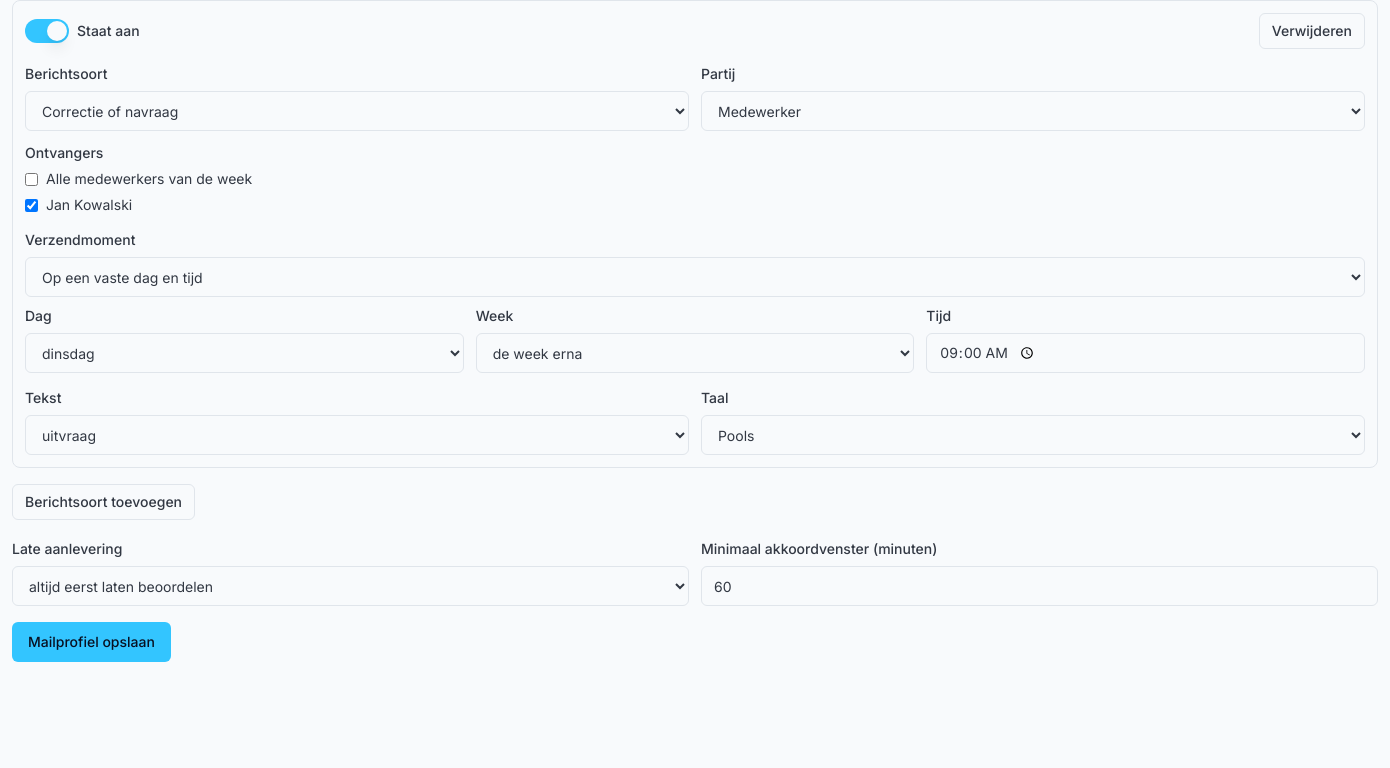
Test: the mail profile on screen › does that too when the message type is what moves the party
Select "Urenuitvraag" in the dropdown labelled "Berichtsoort" at (357, 111), box left=25, top=91, right=689, bottom=131
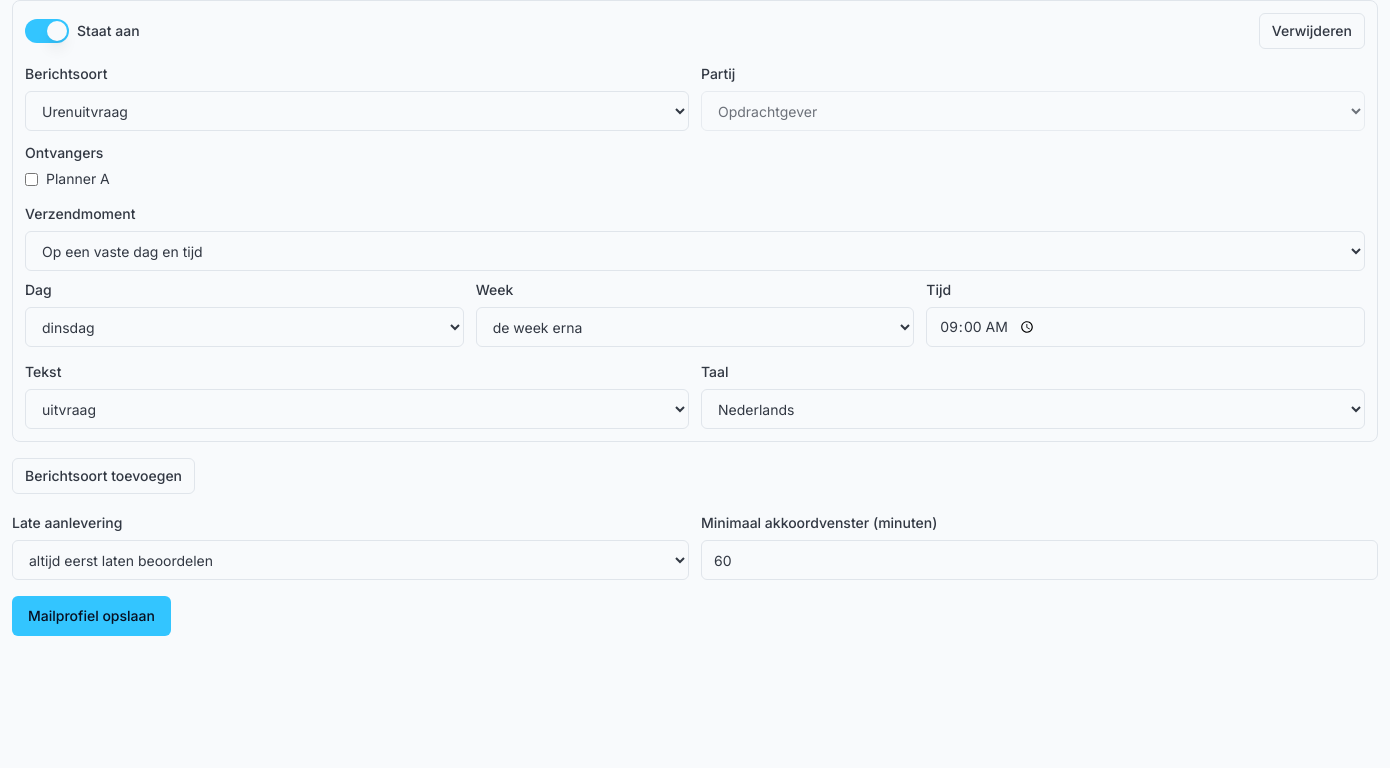
Now the dropdown labelled "Taal" shows "Nederlands", box left=701, top=389, right=1365, bottom=429
